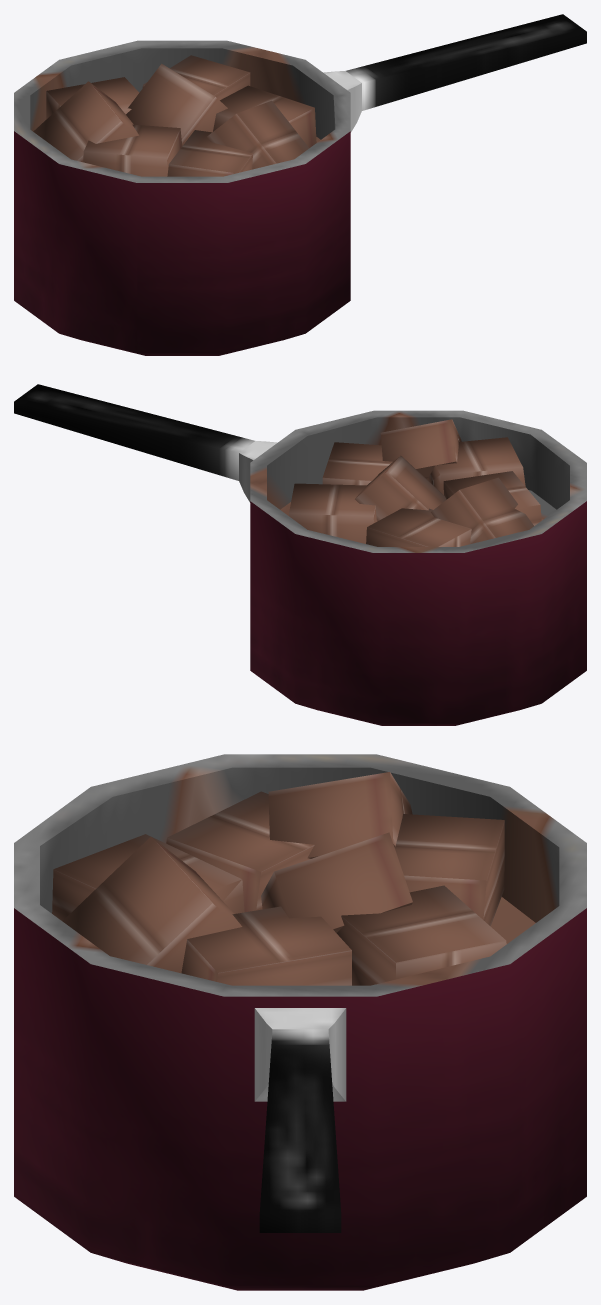
Rendered from SaucepanChocolate.fbx.
3 views of the same model, one above another, from view 1: azimuth 30°, elevation 25°; view 2: azimuth 150°, elevation 25°; view 3: azimuth 270°, elevation 25° (orthographic). The views are drawn at different scales.
Parts seen in each view (by area): view 1: Chocolate001; view 2: Chocolate001; view 3: Chocolate001.
Part boxes in pixels (x1,y1,x2,y2): Chocolate001: [14, 14, 586, 355]; Chocolate001: [14, 384, 586, 725]; Chocolate001: [14, 754, 586, 1290].
Bounding box in the file's own units: 60.76 × 23 × 32.91.
